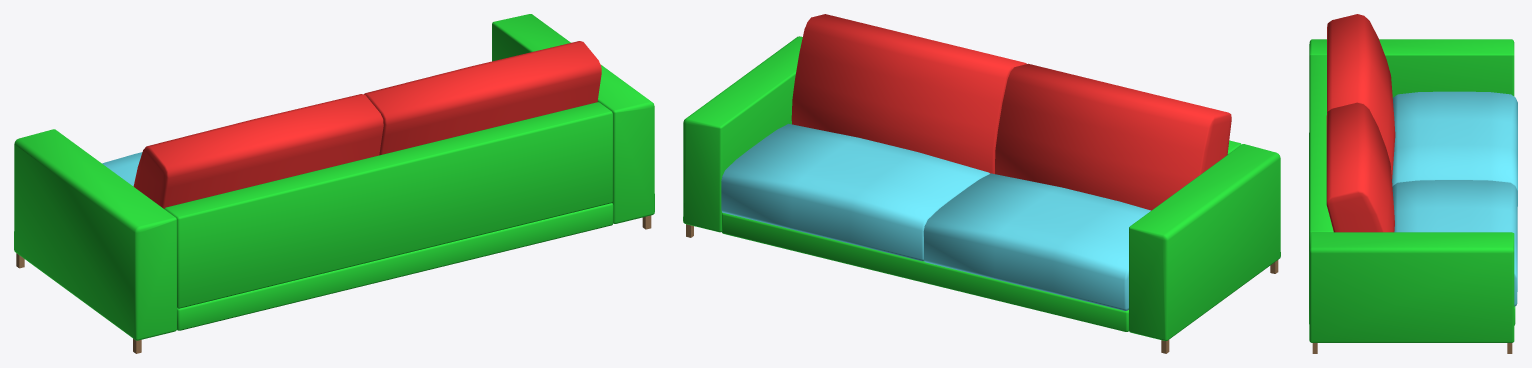
The model's file is sofa_2.FBX.
The picture shows the model from 3 angles, left to right: view 1: azimuth 30°, elevation 25°; view 2: azimuth 150°, elevation 25°; view 3: azimuth 270°, elevation 25°; orthographic projection. The views are drawn at different scales.
Parts seen in each view (by area): view 1: sofa_2; view 2: sofa_2; view 3: sofa_2.
Boxes of the visible parts, bbox=[...] form: sofa_2: bbox=[14, 14, 654, 353]; sofa_2: bbox=[683, 14, 1280, 353]; sofa_2: bbox=[1309, 14, 1517, 353].
Size of the model in its own units: 2.4 by 0.7812 by 1.
